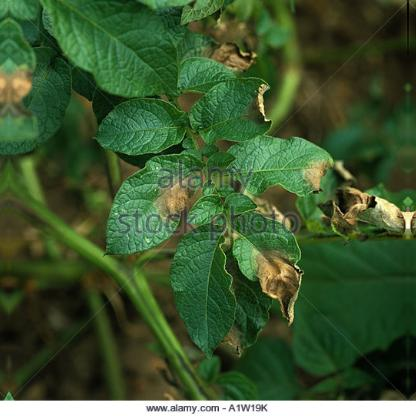Late-Blight: (223, 189, 321, 331), (90, 147, 210, 247), (328, 175, 408, 265), (162, 66, 306, 115)
